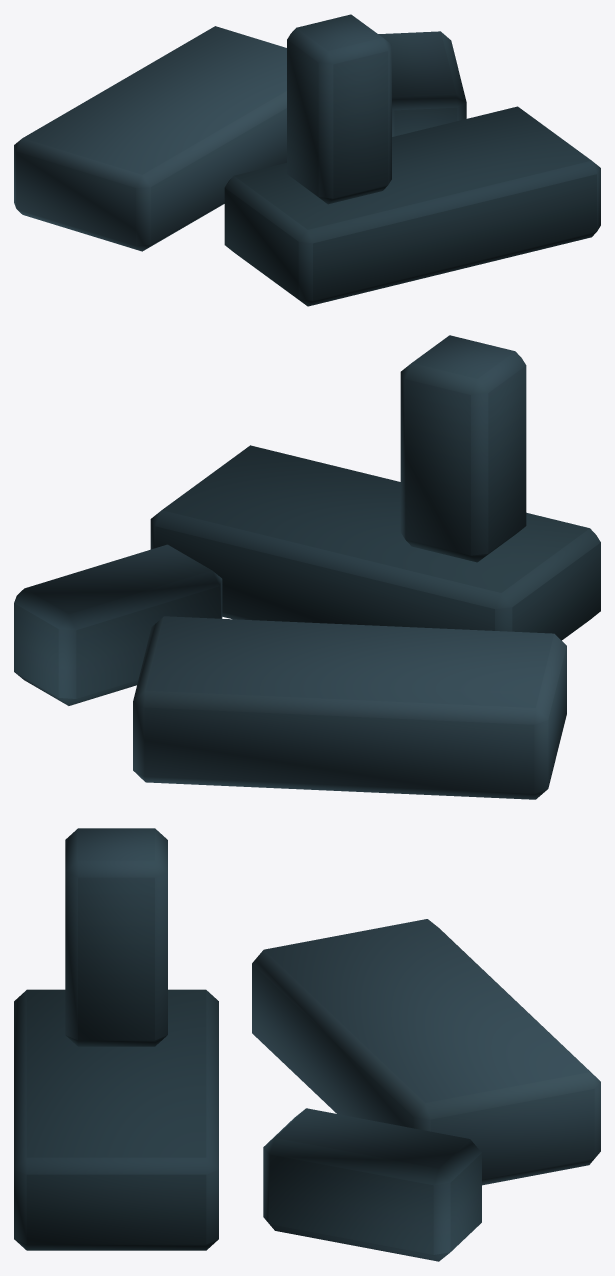
The model's file is fence_01_broken_hue_4.fbx.
The picture shows the model from 3 angles, top to bottom: view 1: azimuth 30°, elevation 25°; view 2: azimuth 150°, elevation 25°; view 3: azimuth 270°, elevation 25°; orthographic projection. The views are drawn at different scales.
Visible parts, largest first — view 1: fence_01_broken_hue_4; view 2: fence_01_broken_hue_4; view 3: fence_01_broken_hue_4.
Part boxes in pixels (x1,y1,x2,y2): fence_01_broken_hue_4: (14,14,600,306); fence_01_broken_hue_4: (14,335,600,799); fence_01_broken_hue_4: (14,828,600,1261).
Bounding box in the file's own units: 150 × 75 × 143.
